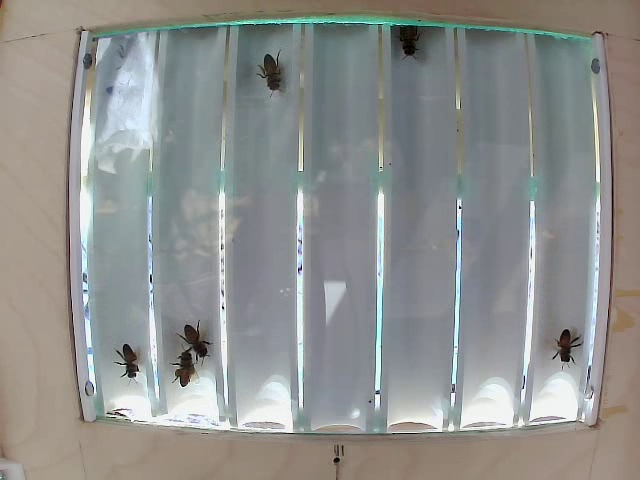bee: (254, 40, 301, 98), (547, 322, 590, 379), (169, 311, 217, 361), (164, 344, 205, 389), (106, 335, 143, 373)
